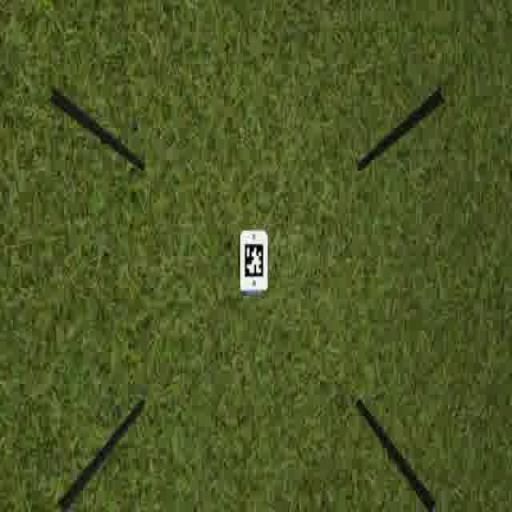UGV: (238, 228, 270, 297)
